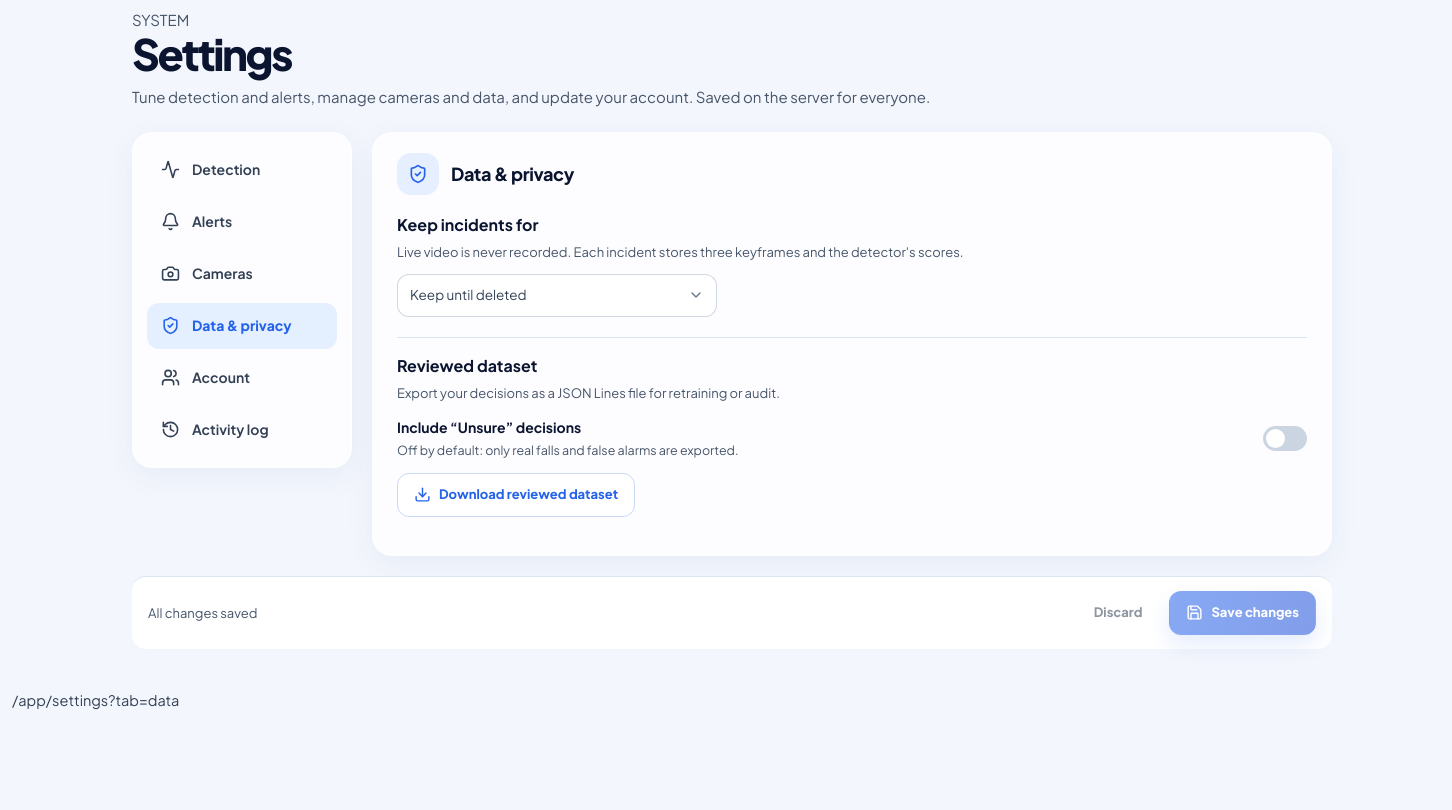
Test case: Settings › warns before enabling automatic deletion
Select "7 days" in the dropdown named "Retention". click: coordinates (557, 295)
box: [397,274,717,317]
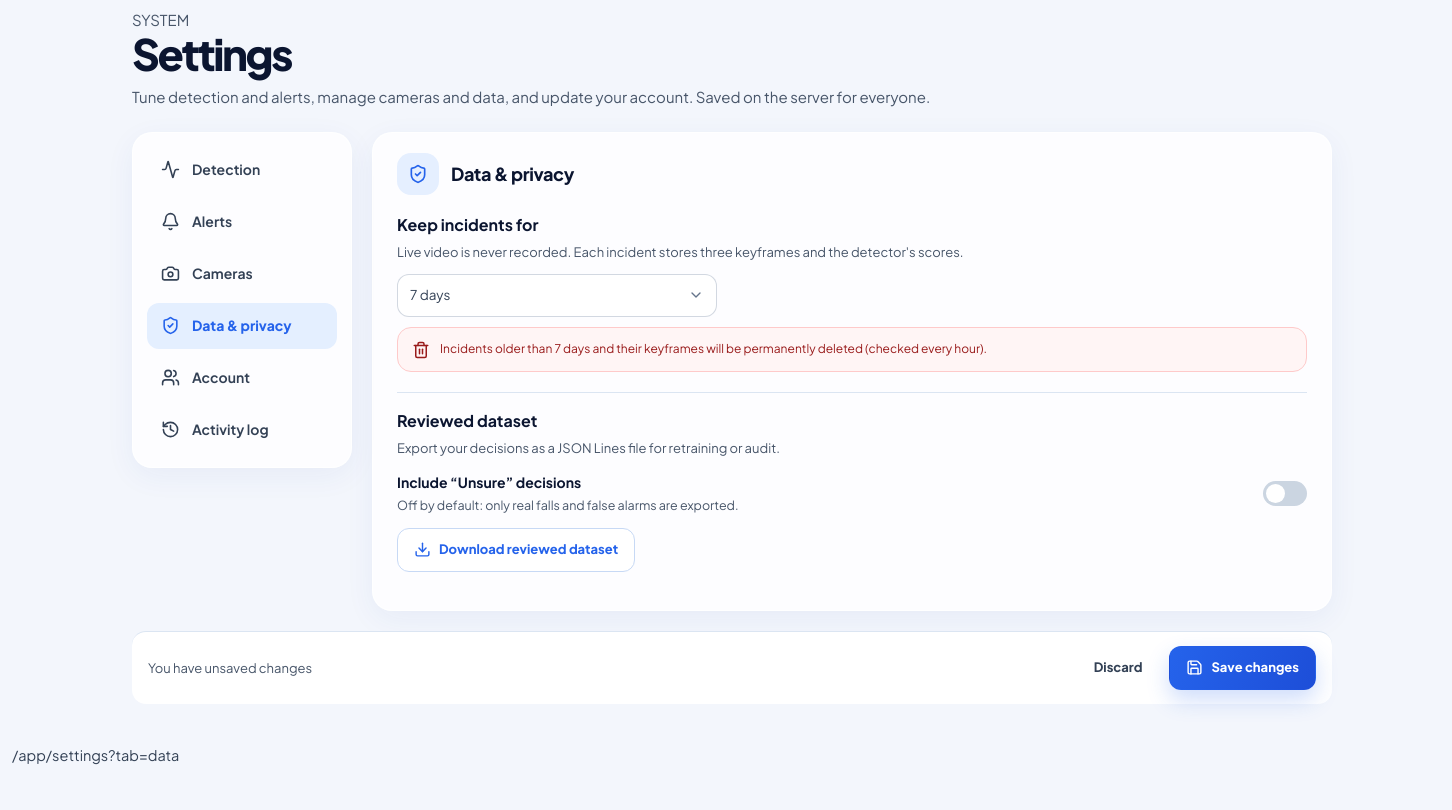
Check: the text "older than 7 days and their keyframes will be permanently deleted" is shown, box [440,340,987,358]
